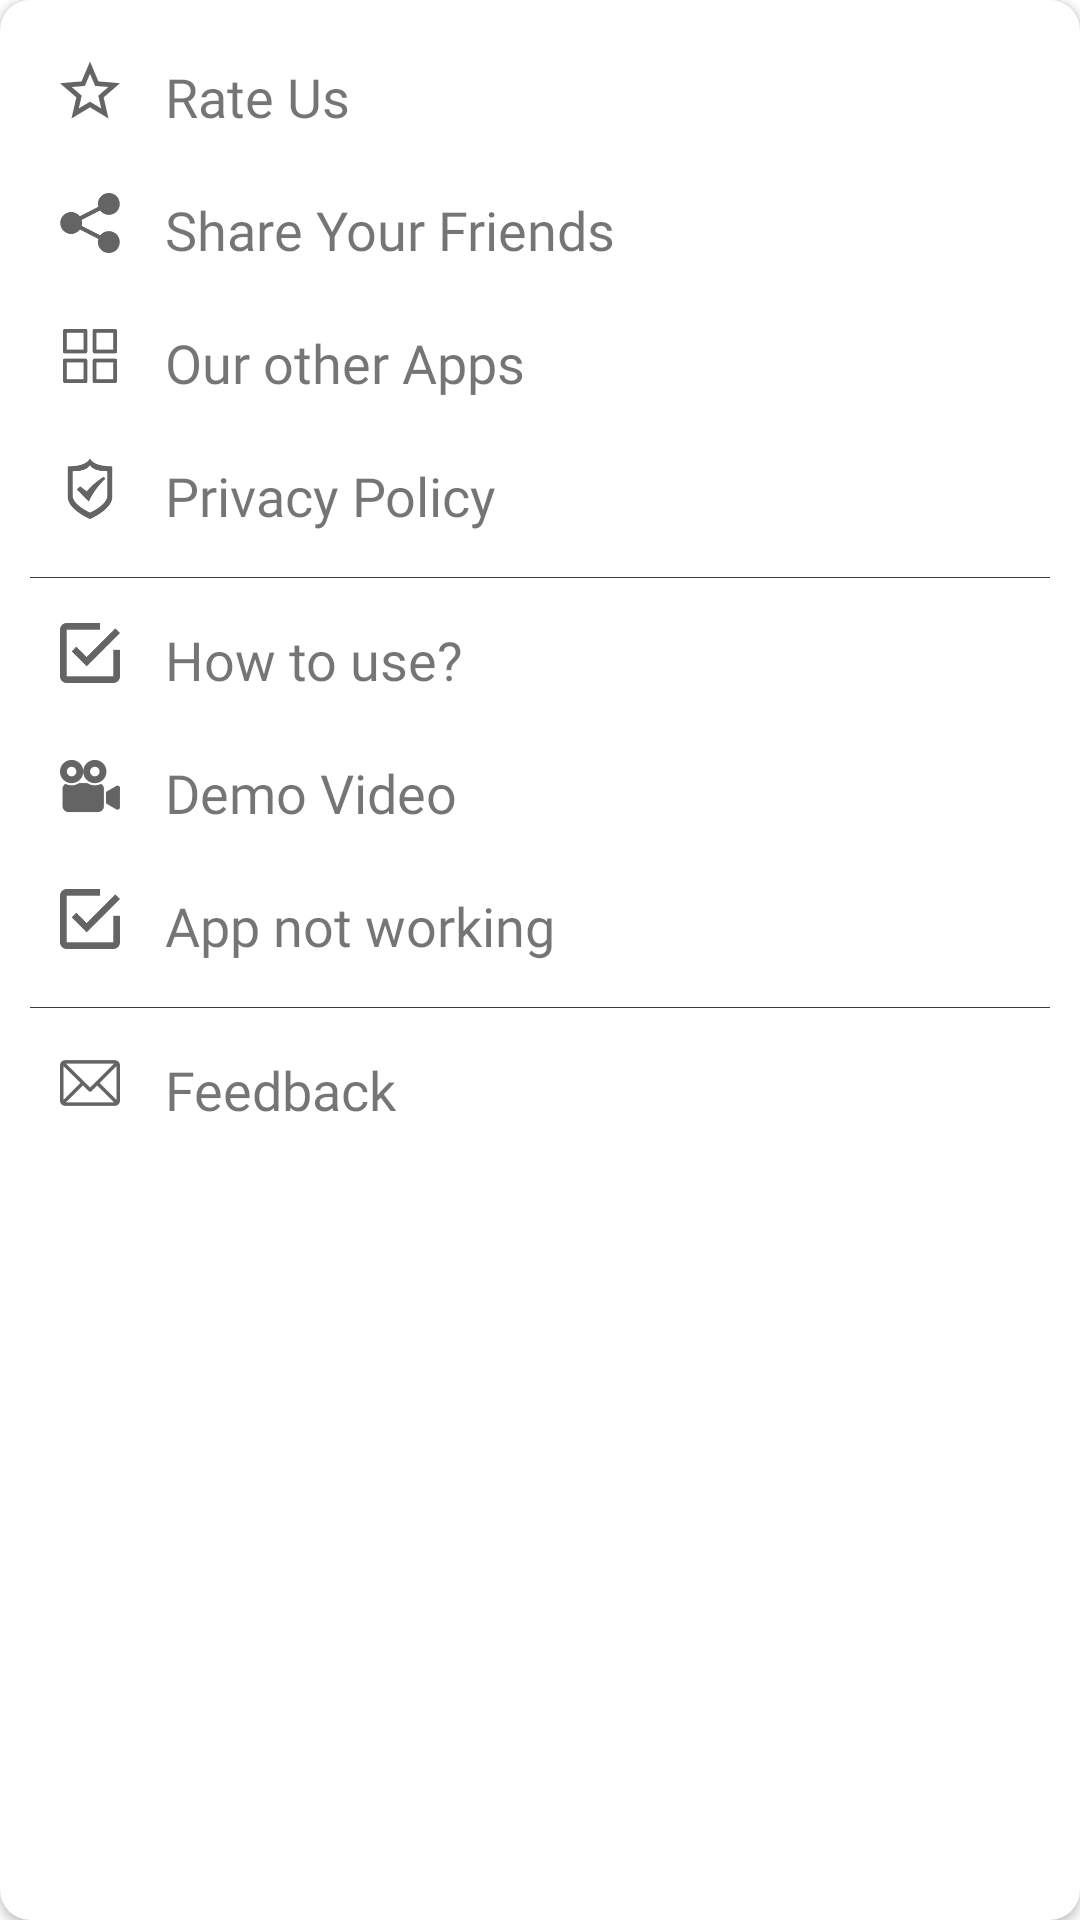

Icon bounding boxes for this 1080x1920 phone screenshot, format {"x1": x1, "y1": y1, "x2": x2, "y2": y2}:
moreapp: {"x1": 63, "y1": 329, "x2": 117, "y2": 383}
usedemo: {"x1": 60, "y1": 623, "x2": 120, "y2": 683}, {"x1": 60, "y1": 889, "x2": 120, "y2": 949}
videodemo: {"x1": 60, "y1": 760, "x2": 120, "y2": 812}
